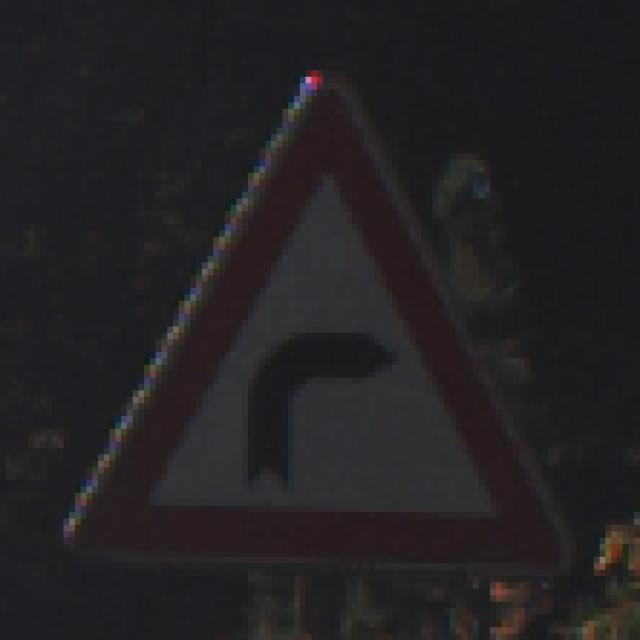right hand curve: (47, 47, 574, 597)
